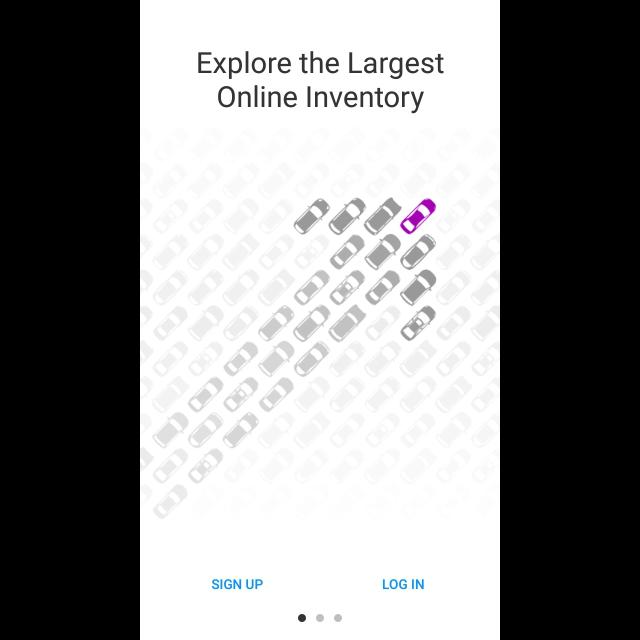image: (140, 128, 500, 520)
pageindicator: (298, 614, 342, 622)
text: (198, 52, 444, 114), (212, 578, 264, 590), (384, 578, 424, 590)
